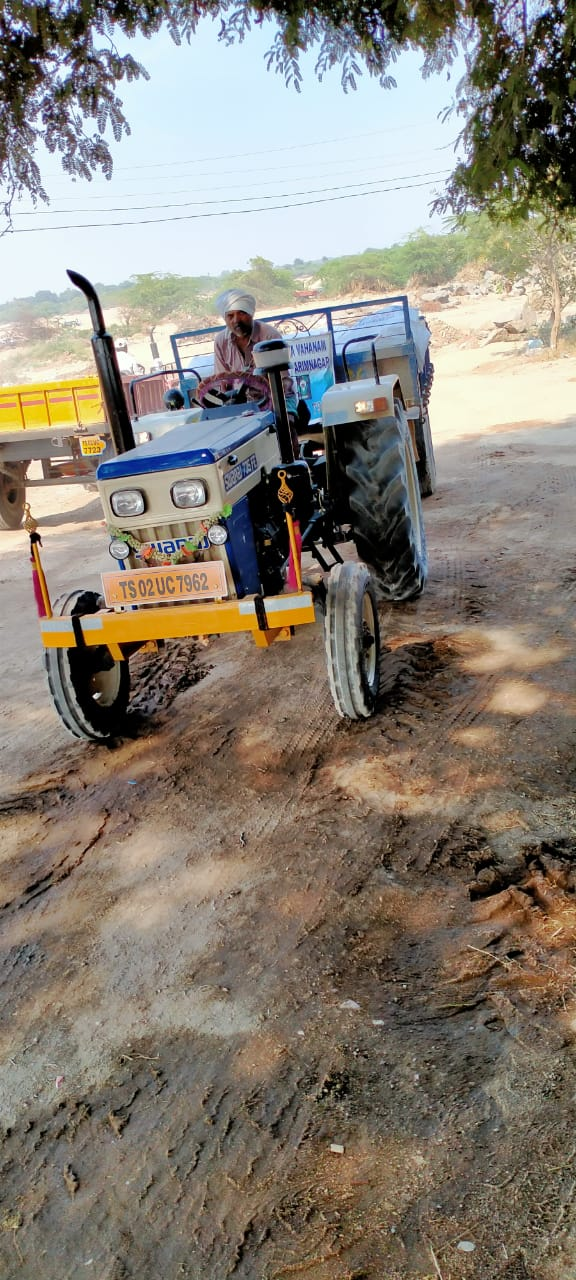license_plate: (102, 568, 228, 598)
